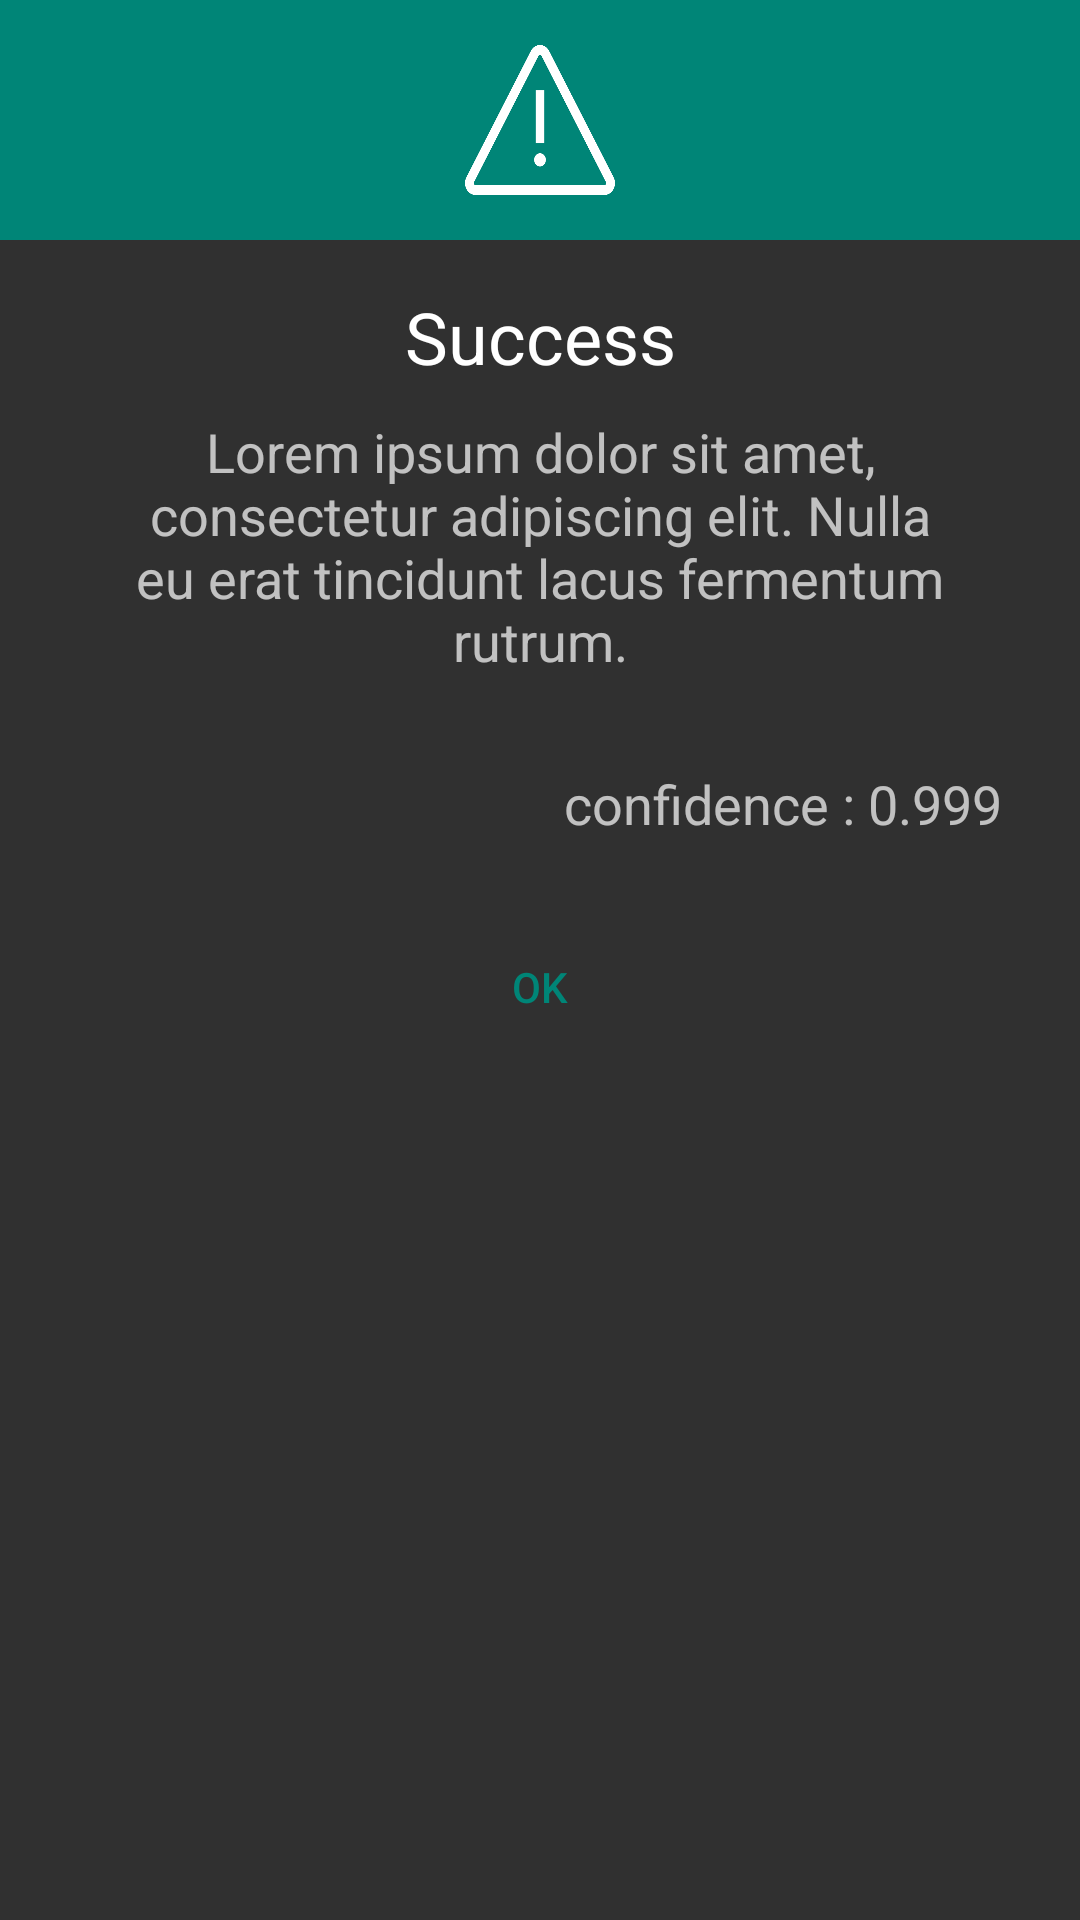

Icon bounding boxes for this 1080px x 1920px phone screenshot, format (x1, y1, x2, y2):
error: (465, 45, 615, 195)
